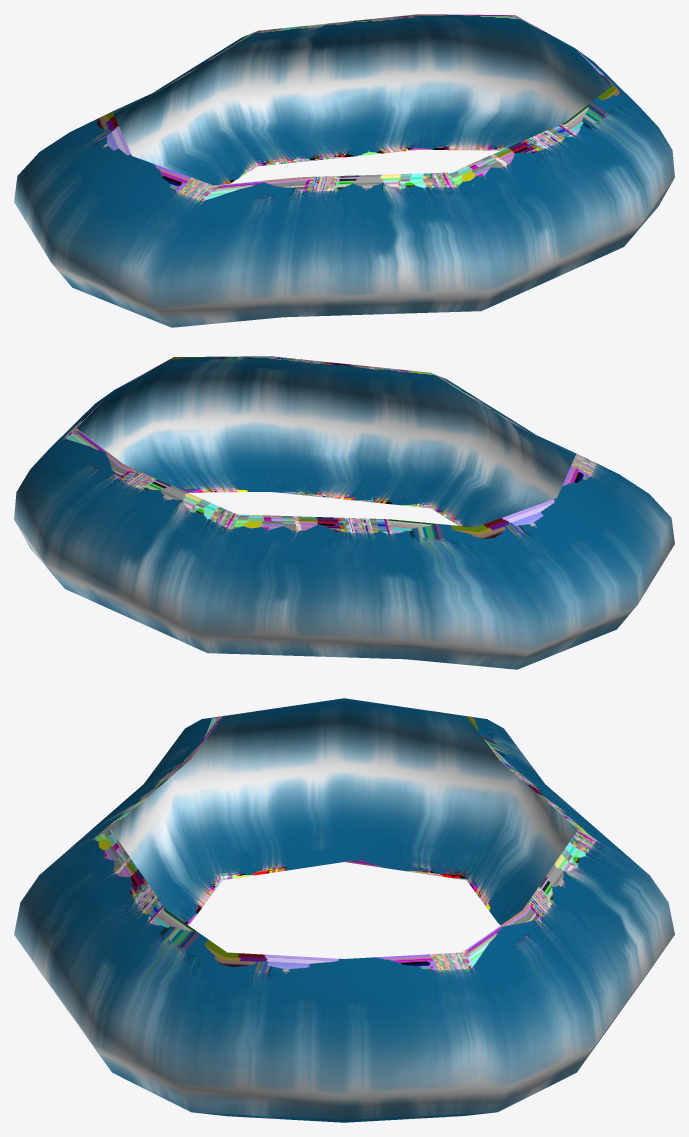
Rendered from flying_unit_regenerating.obj.
3 renders of one model, top to bottom at view 1: azimuth 30°, elevation 25°; view 2: azimuth 150°, elevation 25°; view 3: azimuth 270°, elevation 25°, orthographic. The views are drawn at different scales.
Parts seen in each view (by area): view 1: pSphere4; view 2: pSphere4; view 3: pSphere4.
Boxes of the visible parts, left/top/right/bottom form: pSphere4: left=14, top=14, right=674, bottom=327; pSphere4: left=14, top=356, right=674, bottom=669; pSphere4: left=14, top=698, right=674, bottom=1122.
Size of the model in its own units: 51.74 by 11.81 by 43.22.
Materials: 1 (1 with a texture image).
